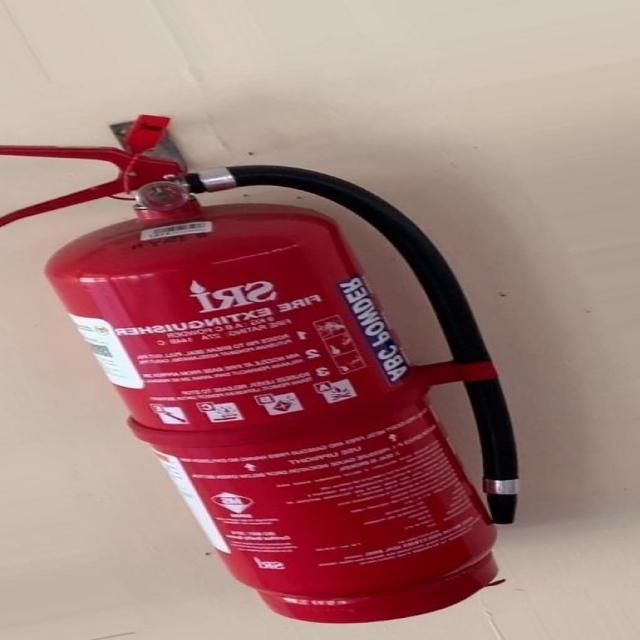fire_extinguisher: (0, 109, 530, 627)
